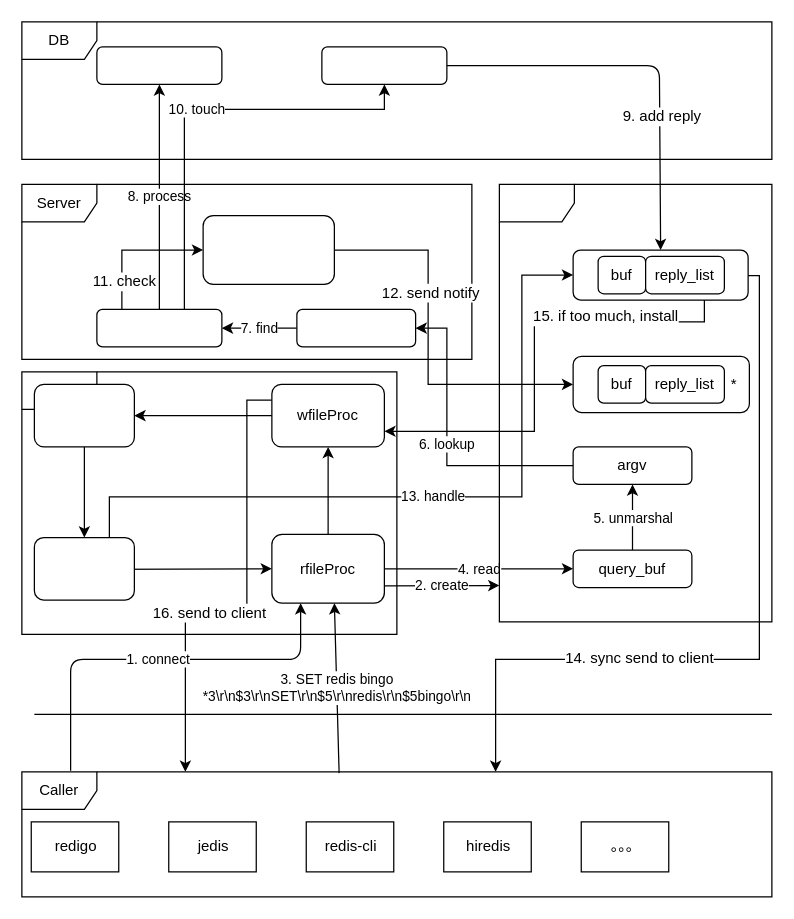
Some shapes in this 794 by 919 pixel diagram are drawn without their labels. The centre of each missing label's shape, as x and y in pixels:
beforeSleep: pixel 83 568
Client: pixel 635 402
dict: pixel 159 65
pubsub_channels pubsub_patterns: pixel 268 249
redisCommand: pixel 356 327
setCommand: pixel 159 327
timeProc: pixel 83 415
watch keys: pixel 384 65
